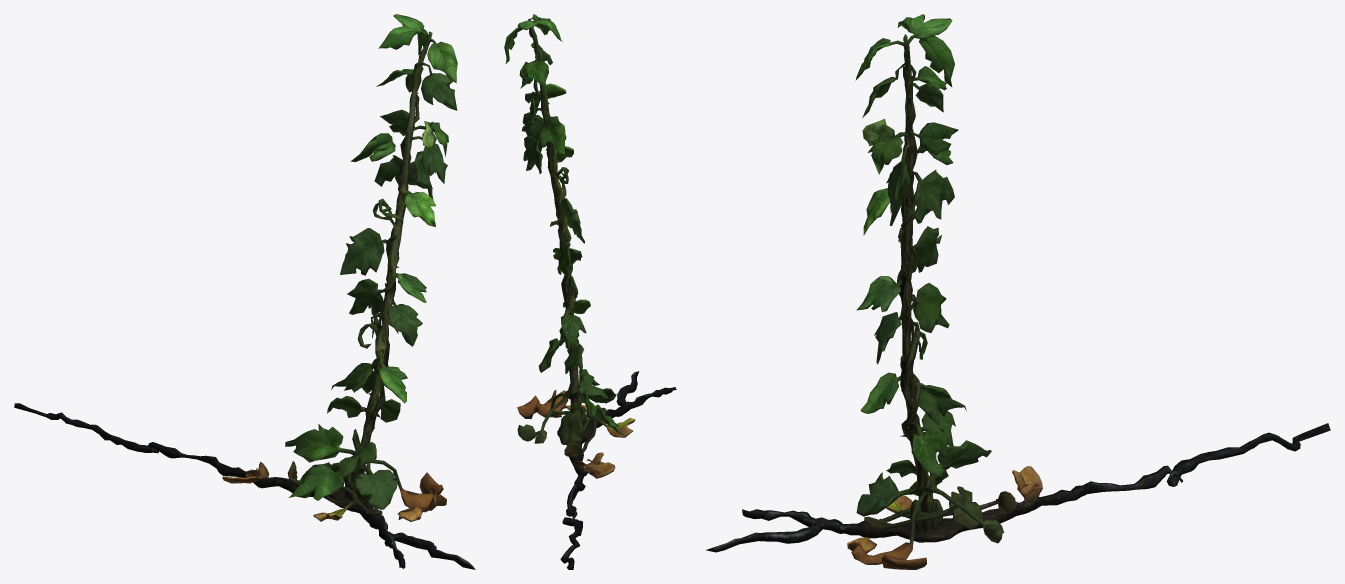
File: level1-garden-vine.glb
3 views of the same model, side by side, from view 1: azimuth 30°, elevation 25°; view 2: azimuth 150°, elevation 25°; view 3: azimuth 270°, elevation 25° (orthographic). The views are drawn at different scales.
Visible parts, largest first — view 1: tripo_node_fded496f-84ce-4e43-ae3c-fbb3dc0949e9; view 2: tripo_node_fded496f-84ce-4e43-ae3c-fbb3dc0949e9; view 3: tripo_node_fded496f-84ce-4e43-ae3c-fbb3dc0949e9.
Part boxes in pixels (x1,y1,x2,y2): tripo_node_fded496f-84ce-4e43-ae3c-fbb3dc0949e9: [14, 14, 475, 569]; tripo_node_fded496f-84ce-4e43-ae3c-fbb3dc0949e9: [504, 14, 676, 569]; tripo_node_fded496f-84ce-4e43-ae3c-fbb3dc0949e9: [705, 14, 1330, 569].
Size of the model in its own units: 1.63 by 3 by 3.1.
Materials: 1 (1 with a texture image).
